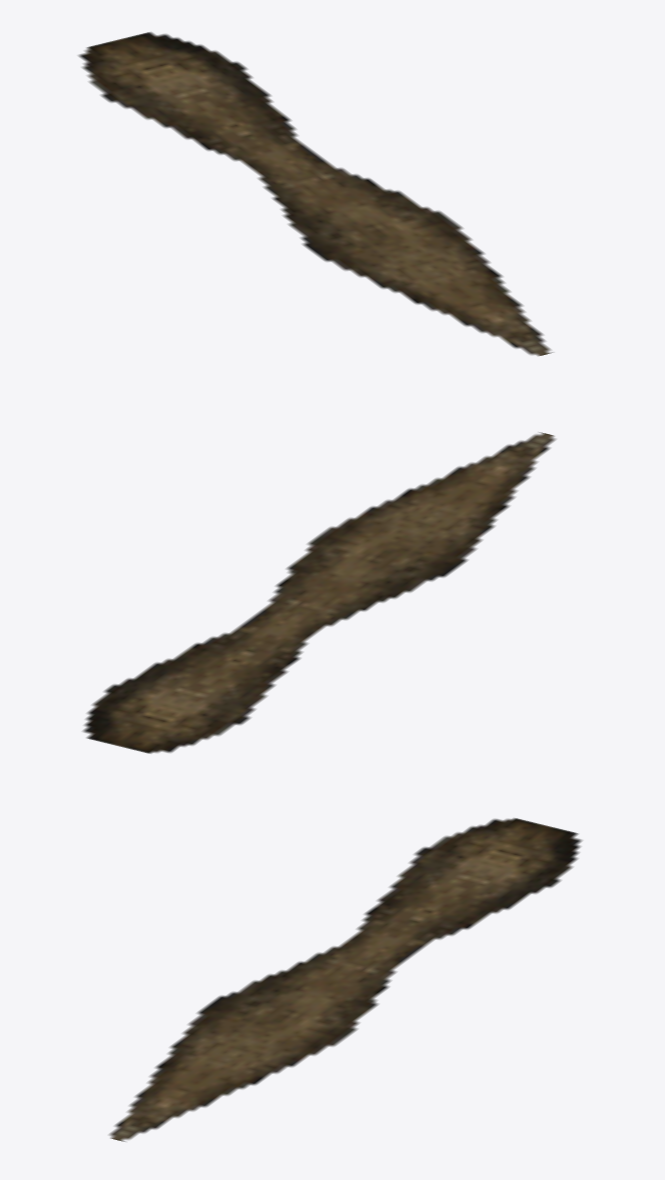
Rendered from hjie.hrc.gltf.
3 views of the same model, one above another, from view 1: azimuth 30°, elevation 25°; view 2: azimuth 150°, elevation 25°; view 3: azimuth 330°, elevation 25° (orthographic).
Visible parts, largest first — view 1: hjieBone0_null; view 2: hjieBone0_null; view 3: hjieBone0_null.
Part boxes in pixels (x1,y1,x2,y2): hjieBone0_null: [78, 32, 553, 355]; hjieBone0_null: [82, 432, 555, 753]; hjieBone0_null: [109, 818, 582, 1141].
Size of the model in its own units: 39.72 by 0.2171 by 142.
1 material, 1 textured.
